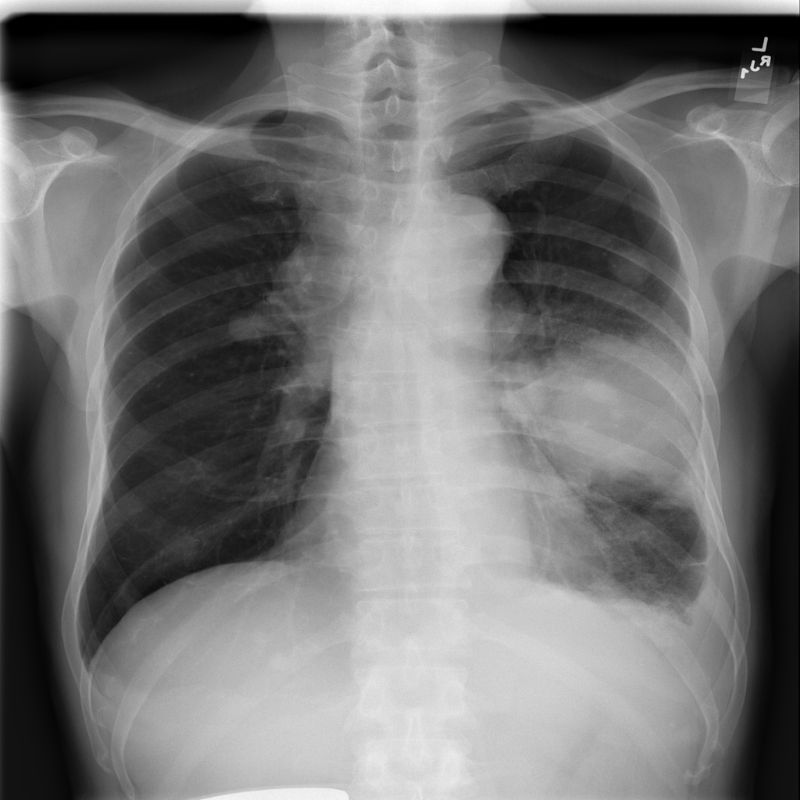PLEURAL EFFUSION: (545, 340, 708, 508), (631, 550, 742, 711)
